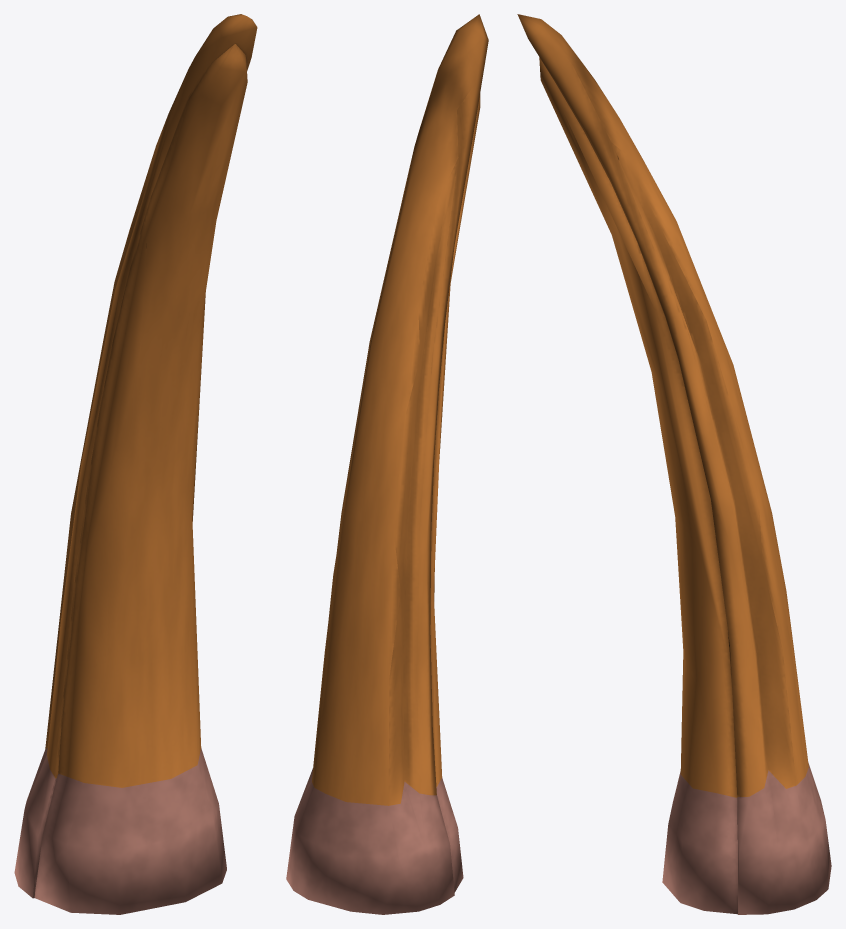
Rendered from cpart_beak_long.glb.
3 renders of one model, left to right at view 1: azimuth 30°, elevation 25°; view 2: azimuth 150°, elevation 25°; view 3: azimuth 270°, elevation 25°, orthographic. The views are drawn at different scales.
Parts seen in each view (by area): view 1: BeakLongLower, BeakLong; view 2: BeakLong, BeakLongLower; view 3: BeakLong, BeakLongLower.
Boxes of the visible parts, x1,y1,x2,y2 form: BeakLongLower: (34, 44, 247, 914); BeakLong: (14, 14, 257, 898); BeakLong: (286, 14, 488, 914); BeakLongLower: (430, 93, 480, 892); BeakLong: (517, 14, 831, 914); BeakLongLower: (539, 57, 737, 914).
Size of the model in its own units: 0.0506 by 0.249 by 0.0825.
2 materials, 2 textured.
